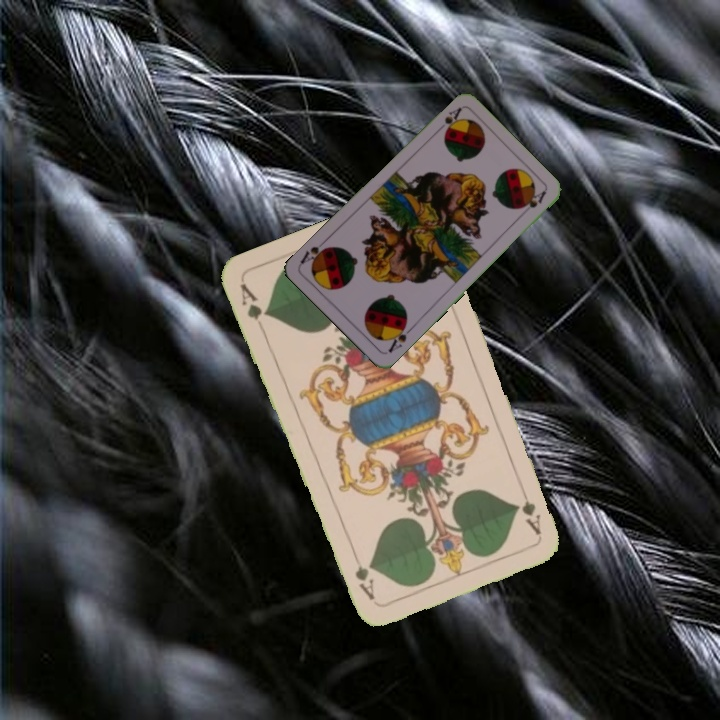GA: (515, 480, 544, 538), (235, 279, 271, 323)
SA: (384, 318, 415, 355), (431, 103, 464, 137)
